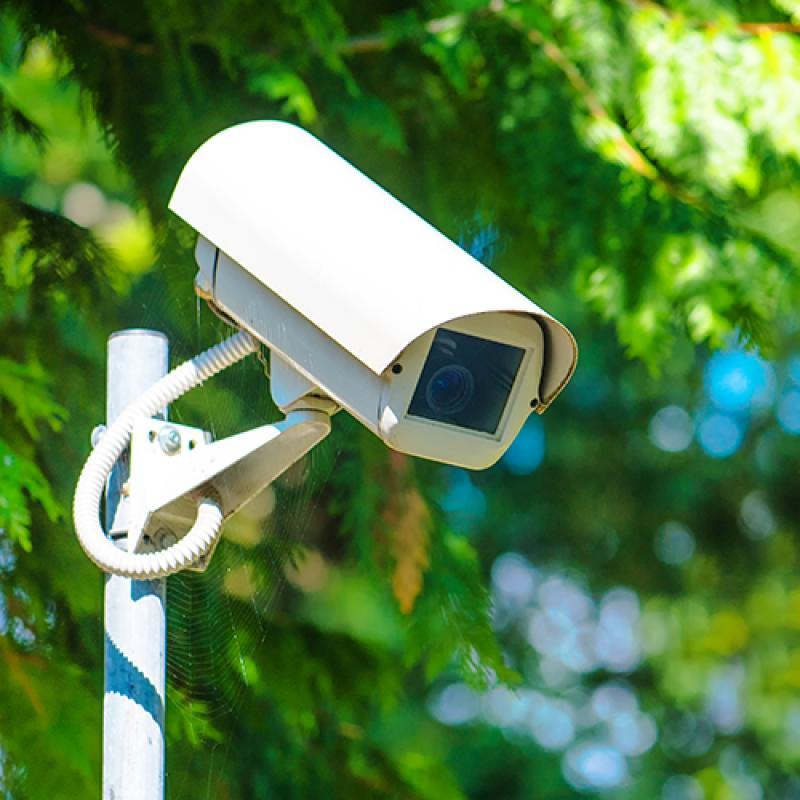camera: (80, 64, 616, 552)
